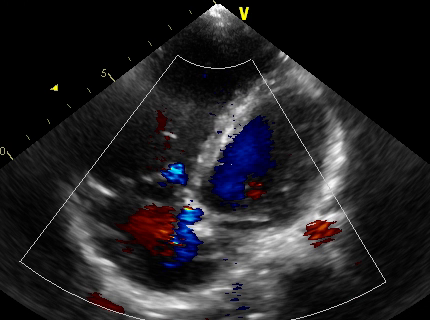TR: (144, 158, 210, 230)
